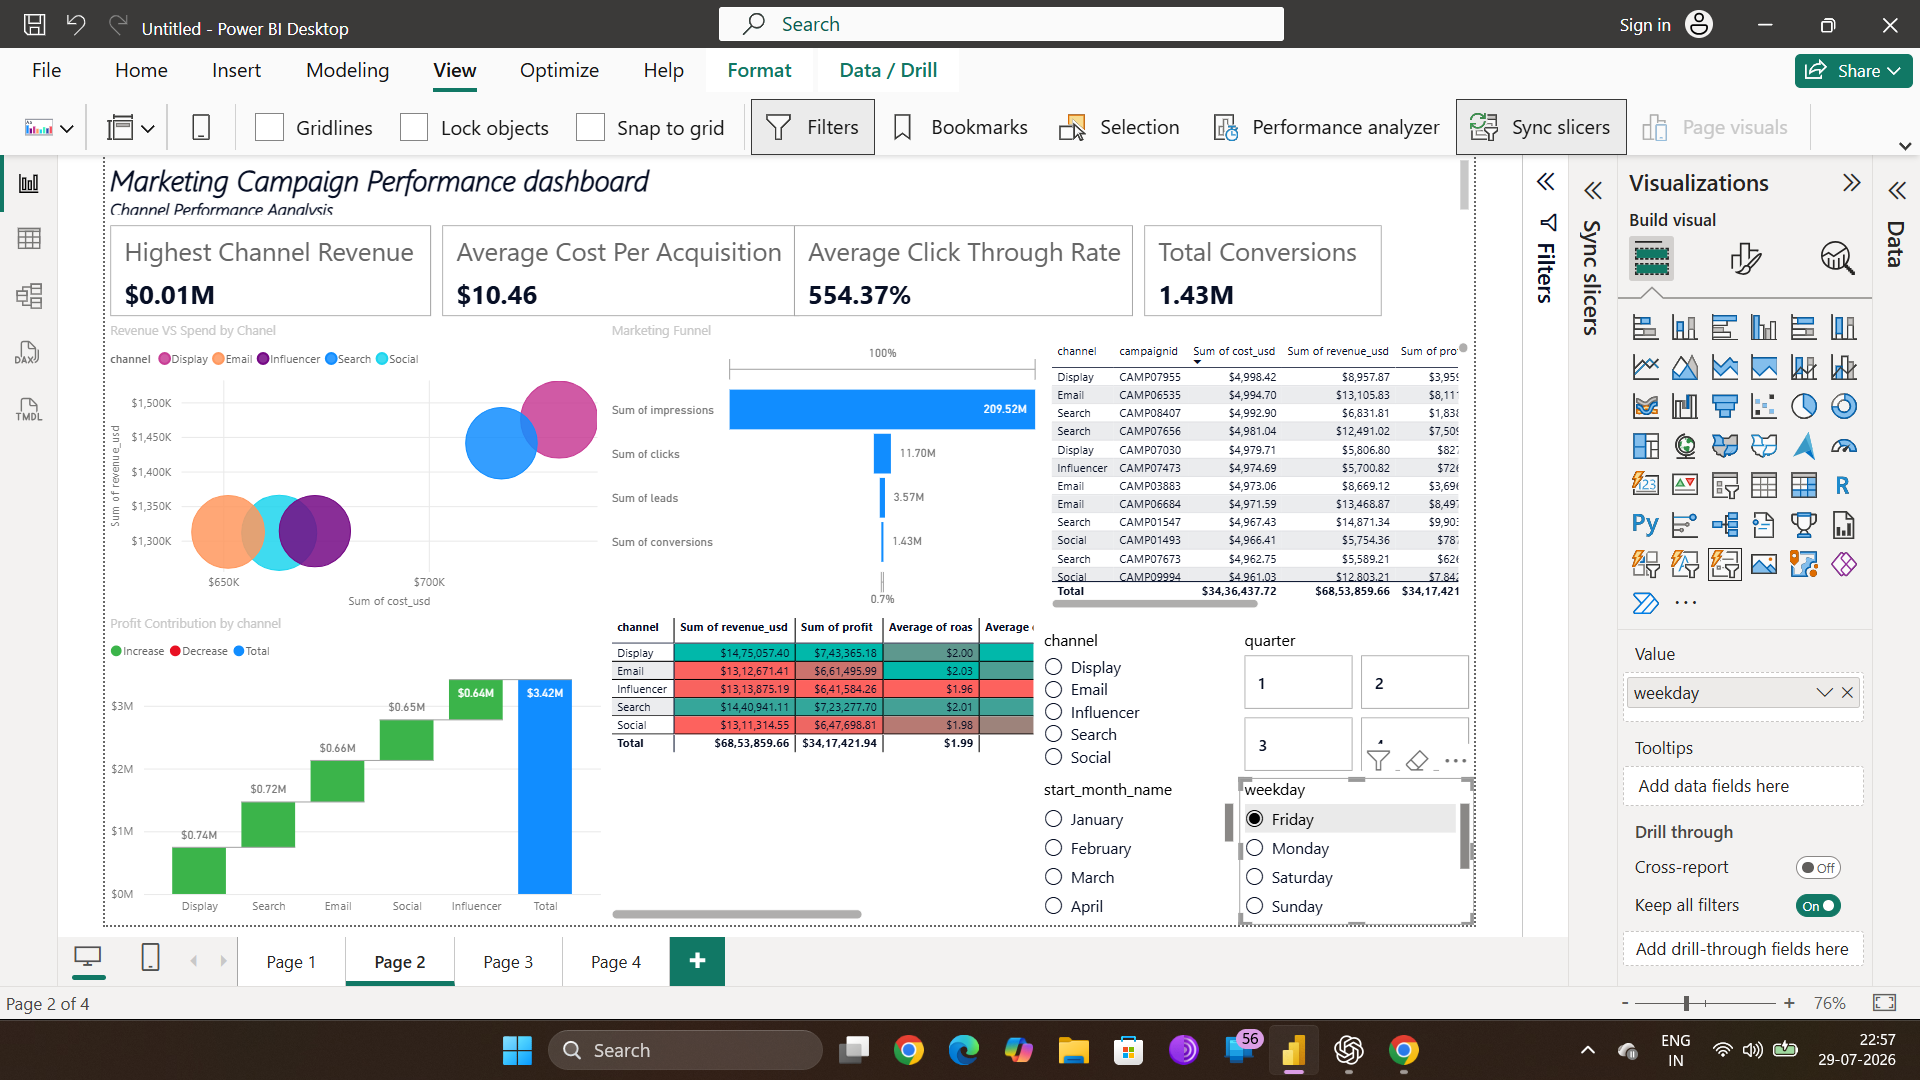

This screenshot's page, from the dashboard's own definition file:
{"tool":"powerbi","page":{"name":"Page 2","canvas":[1280,720],"ordinal":1},"visuals":[{"type":"textbox","box":[0,0,1279.8,60.9],"z":0},{"type":"cardVisual","fields":{"Data":["Max(marketing_campaign_engineered.revenue_usd)"]},"box":[0,60.8,310.4,95.1],"z":1000},{"type":"cardVisual","fields":{"Data":["Avg(marketing_campaign_engineered.cpa)"]},"box":[310.4,60.8,344.7,95.1],"z":2000},{"type":"cardVisual","fields":{"Data":["Avg(marketing_campaign_engineered.ctr)"]},"box":[639.2,60.8,327.5,95.1],"z":3000},{"type":"cardVisual","fields":{"Data":["Sum(marketing_campaign_engineered.conversions)"]},"box":[966.8,60.8,232.5,95.1],"z":4000},{"type":"scatterChart","title":"Revenue VS Spend by Chanel","fields":{"X":["Sum(marketing_campaign_engineered.cost_usd)"],"Y":["Sum(marketing_campaign_engineered.revenue_usd)"],"Size":["Sum(marketing_campaign_engineered.conversions)"],"Series":["marketing_campaign_engineered.channel"],"Category":["marketing_campaign_engineered.channel"]},"box":[0,156.3,480.1,272.6],"z":5000},{"type":"funnel","title":"Marketing Funnel","fields":{"Y":["Sum(marketing_campaign_engineered.impressions)","Sum(marketing_campaign_engineered.clicks)","Sum(marketing_campaign_engineered.leads)","Sum(marketing_campaign_engineered.conversions)"]},"box":[469,156.3,410.9,272.6],"z":6000},{"type":"pivotTable","fields":{"Rows":["marketing_campaign_engineered.channel"],"Values":["Sum(marketing_campaign_engineered.revenue_usd)","Sum(marketing_campaign_engineered.profit)","Avg(marketing_campaign_engineered.roas)","Avg(marketing_campaign_engineered.ctr)","Avg(marketing_campaign_engineered.cpa)","Sum(marketing_campaign_engineered.conversions)"]},"box":[468.6,428.6,404.3,291.4],"z":7000},{"type":"waterfallChart","title":"Profit Contribution by channel","fields":{"Category":["marketing_campaign_engineered.channel"],"Y":["Sum(marketing_campaign_engineered.profit)"]},"box":[0,428.9,469,290.5],"z":8000},{"type":"tableEx","fields":{"Values":["marketing_campaign_engineered.channel","marketing_campaign_engineered.campaignid","Sum(marketing_campaign_engineered.cost_usd)","Sum(marketing_campaign_engineered.revenue_usd)","Sum(marketing_campaign_engineered.profit)","Avg(marketing_campaign_engineered.roas)","Avg(marketing_campaign_engineered.cpa)","Avg(marketing_campaign_engineered.ctr)","Sum(marketing_campaign_engineered.conversions)"]},"box":[879.9,170.2,399.8,258.7],"z":9000},{"type":"advancedSlicerVisual","fields":{"Values":["marketing_campaign_engineered.quarter"]},"box":[1060,444.3,220,138.6],"z":9001},{"type":"listSlicer","fields":{"Values":["marketing_campaign_engineered.channel"]},"box":[872.9,444.3,187.1,138.6],"z":9002},{"type":"listSlicer","fields":{"Values":["marketing_campaign_engineered.start_month_name"]},"box":[872.9,582.9,187.1,137.1],"z":9003},{"type":"listSlicer","fields":{"Values":["marketing_campaign_engineered.weekday"]},"box":[1060,582.9,220,137.1],"z":9004}]}

Visuals, with their boxes on the page's 1280x720 design canvas (x1, y1, x2, y2). These are canvas units, not pixel positions in the 1920x1080 screenshot, which may show the page scaled, cropped or inside an application window:
textbox: <bbox>0, 0, 1280, 61</bbox>
cardVisual - Max(marketing_campaign_engineered.revenue_usd): <bbox>0, 61, 310, 156</bbox>
cardVisual - Avg(marketing_campaign_engineered.cpa): <bbox>310, 61, 655, 156</bbox>
cardVisual - Avg(marketing_campaign_engineered.ctr): <bbox>639, 61, 967, 156</bbox>
cardVisual - Sum(marketing_campaign_engineered.conversions): <bbox>967, 61, 1199, 156</bbox>
"Revenue VS Spend by Chanel" scatterChart: <bbox>0, 156, 480, 429</bbox>
"Marketing Funnel" funnel: <bbox>469, 156, 880, 429</bbox>
pivotTable - marketing_campaign_engineered.channel x Sum(marketing_campaign_engineered.revenue_usd): <bbox>469, 429, 873, 720</bbox>
"Profit Contribution by channel" waterfallChart: <bbox>0, 429, 469, 719</bbox>
tableEx - marketing_campaign_engineered.channel x marketing_campaign_engineered.campaignid: <bbox>880, 170, 1280, 429</bbox>
advancedSlicerVisual - marketing_campaign_engineered.quarter: <bbox>1060, 444, 1280, 583</bbox>
listSlicer - marketing_campaign_engineered.channel: <bbox>873, 444, 1060, 583</bbox>
listSlicer - marketing_campaign_engineered.start_month_name: <bbox>873, 583, 1060, 720</bbox>
listSlicer - marketing_campaign_engineered.weekday: <bbox>1060, 583, 1280, 720</bbox>
